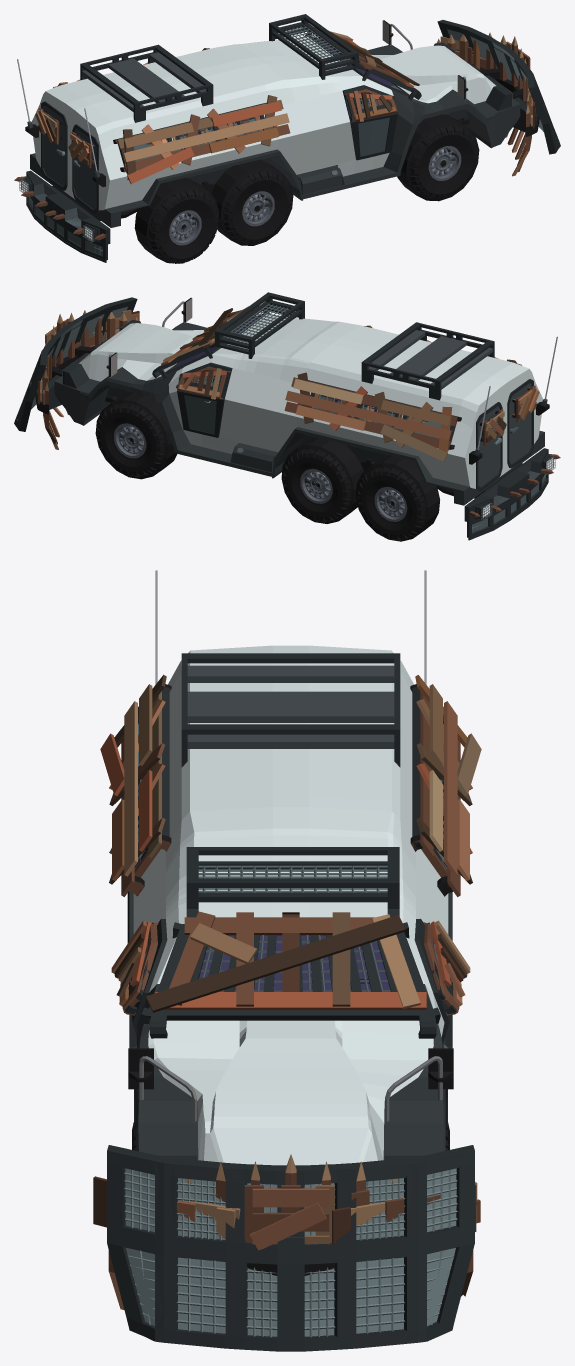
Rendered from Car_03.fbx.
3 views of the same model, one above another, from view 1: azimuth 30°, elevation 25°; view 2: azimuth 150°, elevation 25°; view 3: azimuth 270°, elevation 25° (orthographic). The views are drawn at different scales.
Parts seen in each view (by area): view 1: Sba_Car, Right_Side_Window.003, Roof, Front_Window_Boarts, Tire.006, Tire.002, Tire.004, Front_Bumper_Boards, Front_Bumper_Solid_metal, Rear_Bumper_Grid.001, Front_Door_Right, Circle.004 (+19 smaller); view 2: Sba_Car, Left_Side_Window.002, Roof, Front_Window_Boarts, Tire.001, Tire.005, Tire.003, Front_Bumper_Boards, Front_Bumper_Solid_metal, Front_Door_Left, Rear_Bumper_Grid.001, Rear_Bumper_Grid (+19 smaller); view 3: Sba_Car, Front_Bumper_Solid_metal, Front_Window_Boarts, Front_Bumper_Solid_Grid, Roof, Front_Bumper_Boards, Right_Side_Window.003, Left_Side_Window.002, Right_Front_Door_Window_Bpards.001, Left_Front_Door_Window_Bpards, Front_Window.001, Front_Window_Grid (+5 smaller).
Boxes of the visible parts, x1,y1,x2,y2 form: Sba_Car: [30, 37, 520, 227]; Right_Side_Window.003: [115, 95, 290, 183]; Roof: [80, 44, 213, 122]; Front_Window_Boarts: [269, 14, 421, 99]; Tire.006: [148, 189, 218, 263]; Tire.002: [409, 125, 478, 199]; Tire.004: [223, 171, 291, 244]; Front_Bumper_Boards: [437, 32, 539, 176]; Front_Bumper_Solid_metal: [437, 20, 560, 152]; Rear_Bumper_Grid.001: [26, 171, 109, 262]; Front_Door_Right: [342, 85, 397, 160]; Circle.004: [211, 159, 293, 245]; Sba_Car: [54, 314, 544, 505]; Left_Side_Window.002: [284, 372, 457, 461]; Roof: [361, 322, 494, 400]; Front_Window_Boarts: [152, 292, 304, 377]; Tire.001: [96, 403, 165, 476]; Tire.005: [357, 467, 426, 540]; Tire.003: [283, 448, 351, 522]; Front_Bumper_Boards: [35, 310, 139, 449]; Front_Bumper_Solid_metal: [14, 297, 136, 431]; Front_Door_Left: [177, 362, 232, 437]; Rear_Bumper_Grid.001: [464, 448, 548, 540]; Rear_Bumper_Grid: [464, 448, 547, 537]; Sba_Car: [129, 645, 452, 1165]; Front_Bumper_Solid_metal: [107, 1145, 474, 1351]; Front_Window_Boarts: [146, 847, 436, 1038]; Front_Bumper_Solid_Grid: [107, 1145, 474, 1338]; Roof: [181, 653, 400, 767]; Front_Bumper_Boards: [93, 1154, 480, 1310]; Right_Side_Window.003: [100, 674, 171, 896]; Left_Side_Window.002: [411, 675, 481, 896]; Right_Front_Door_Window_Bpards.001: [111, 920, 158, 1015]; Left_Front_Door_Window_Bpards: [423, 920, 470, 1015]; Front_Window.001: [167, 935, 419, 1020]; Front_Window_Grid: [141, 922, 440, 1023].
Size of the model in its own units: 892 by 306 by 304.
